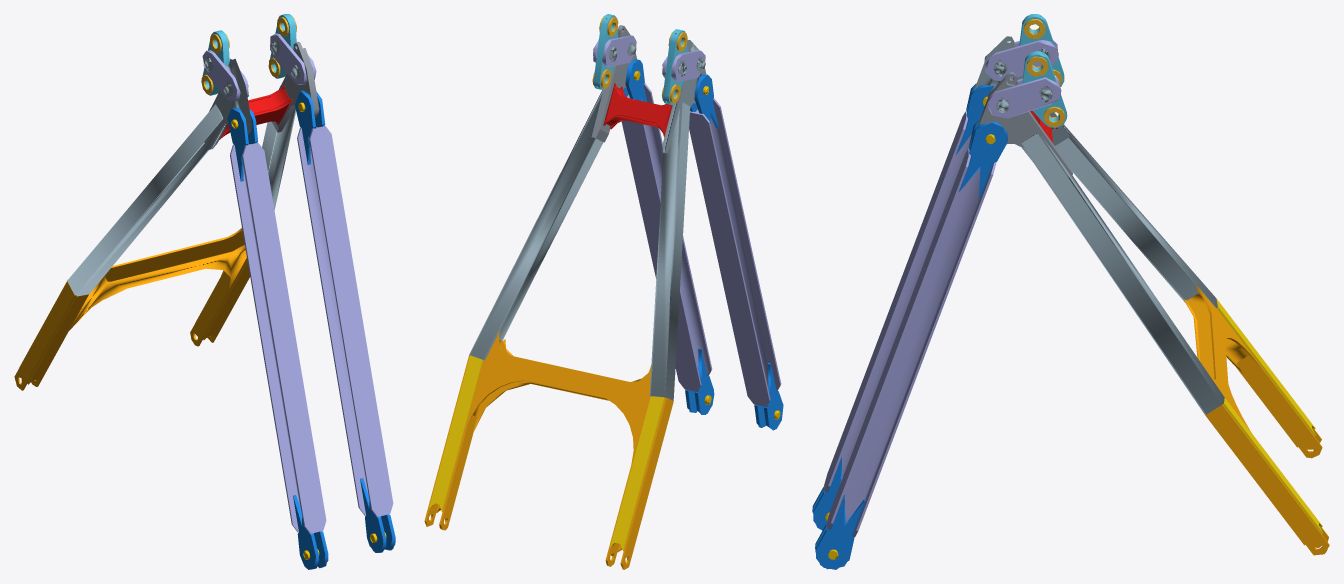
File: aframe-native.glb
3 renders of one model, left to right at view 1: azimuth 30°, elevation 25°; view 2: azimuth 150°, elevation 25°; view 3: azimuth 270°, elevation 25°, orthographic. The views are drawn at different scales.
Visible parts, largest first — view 1: jiazi; view 2: jiazi; view 3: jiazi.
Boxes of the visible parts, bbox=[...] form: jiazi: bbox=[14, 14, 395, 569]; jiazi: bbox=[424, 14, 783, 569]; jiazi: bbox=[812, 14, 1329, 569].
Size of the model in its own units: 3.72 by 8.35 by 7.61.
